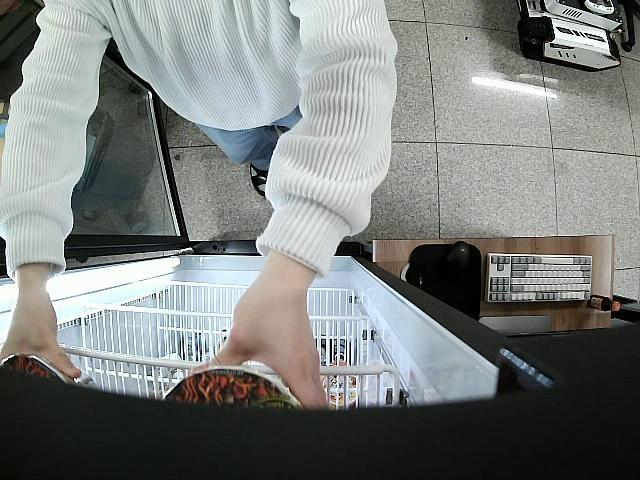03_chapagetti_L: (162, 366, 303, 418), (2, 353, 98, 402)
